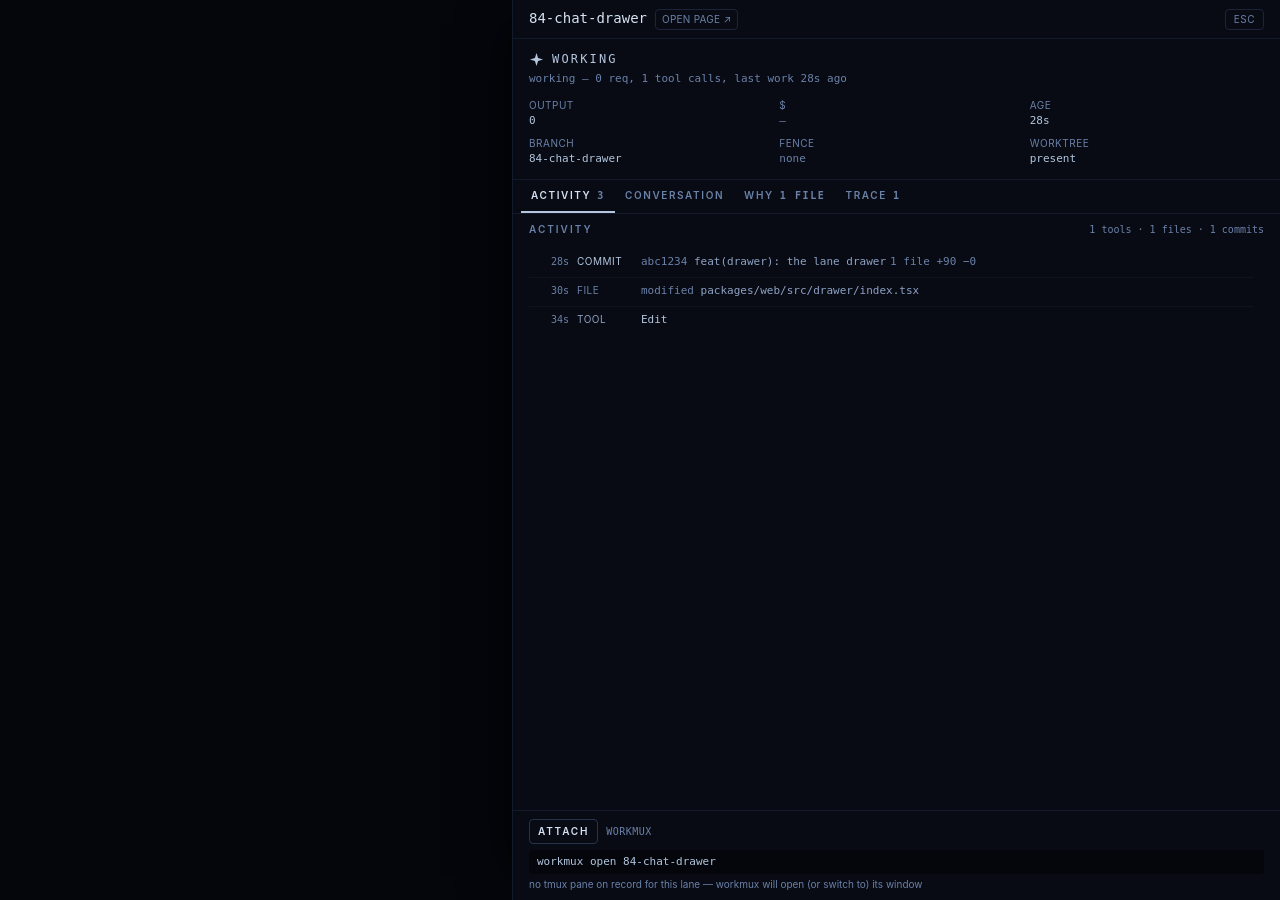
Scenario: LaneDrawer — the WHY surface (prd11 ruling 5) › a file's "activity ↗" jumps to ACTIVITY, scoped to that file
The image size is (1280, 900).
Click the tab with test id "drawer-tab-why" at (785, 197), box 734,180 -> 835,213
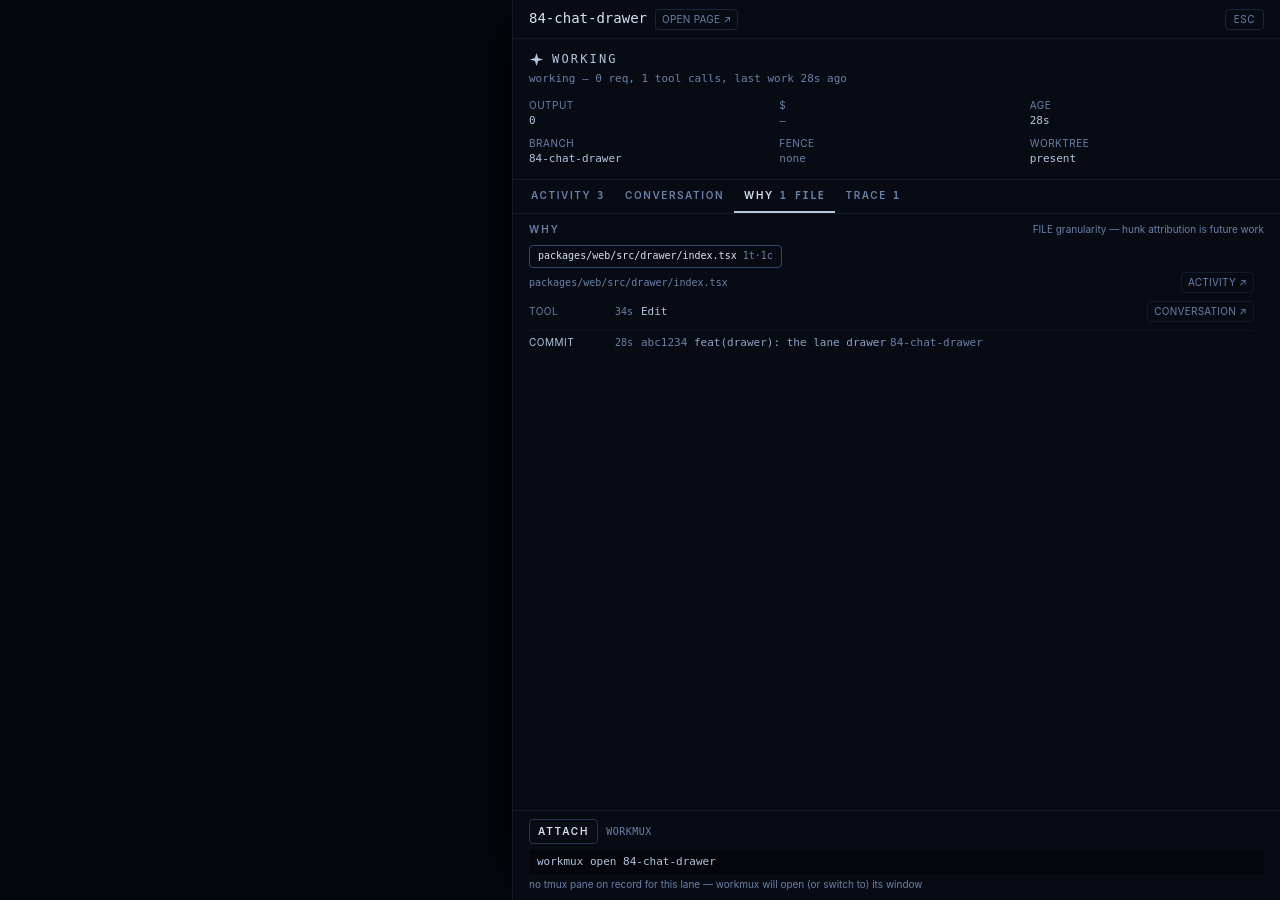
Click the button with test id "why-open-in-activity" at (1217, 282), box 1181,272 -> 1254,293
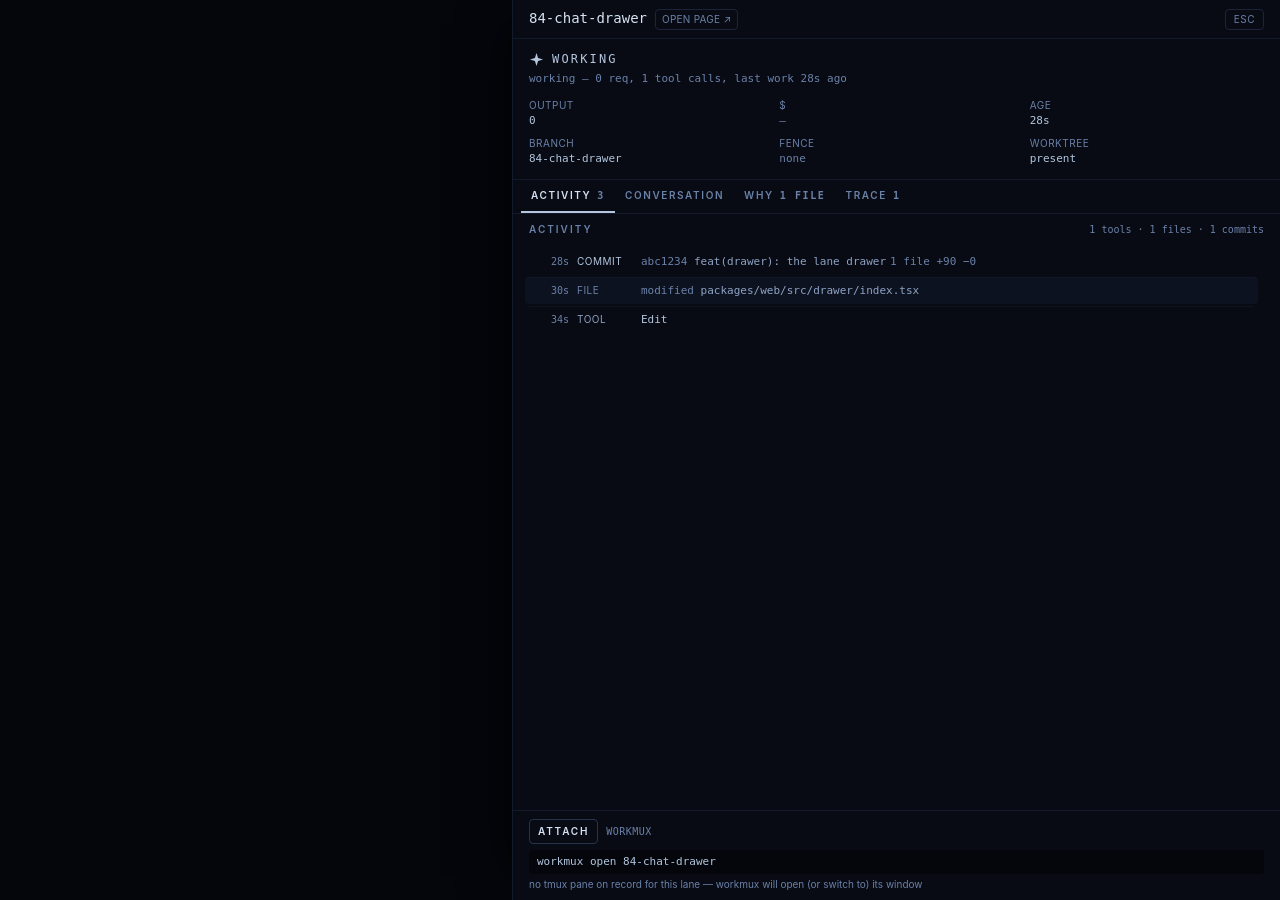
Check: the element with test id "drawer-activity" is shown, box 525,223 -> 1264,333
Check: the list item with test id "activity-entry" that starts with "30s" is shown, box 525,277 -> 1258,304
Check: the list item with test id "activity-entry" shows "packages/web/src/drawer/index.tsx", box 701,284 -> 919,297
